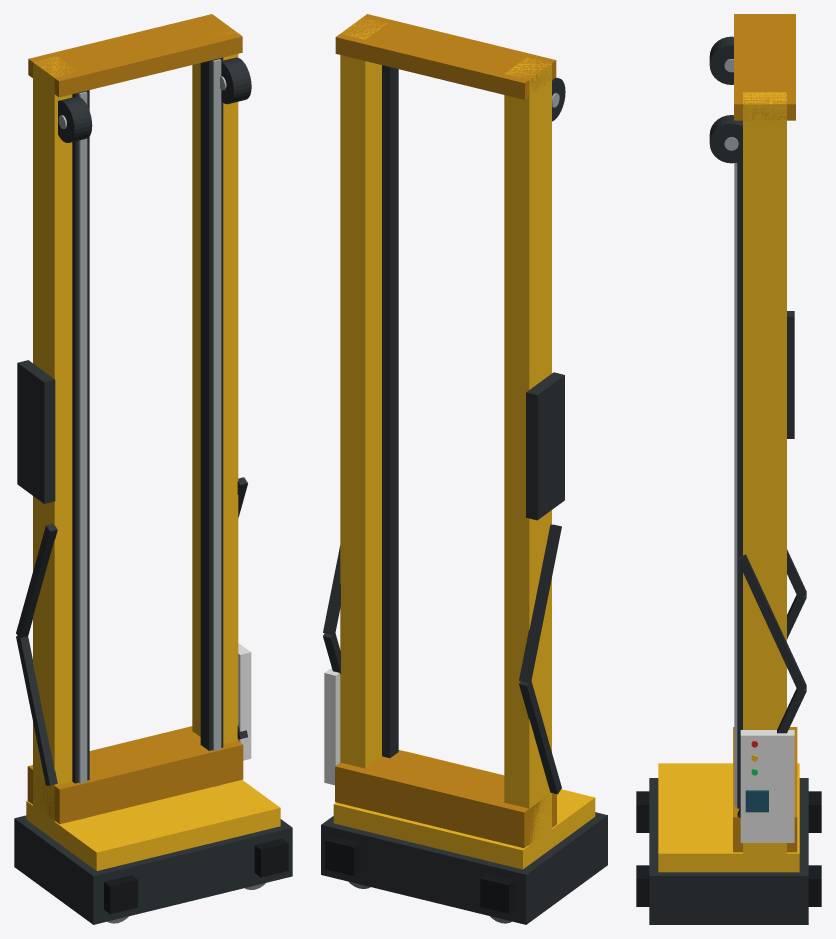
File: asrs_stacker_crane_body.glb
3 renders of one model, left to right at view 1: azimuth 30°, elevation 25°; view 2: azimuth 150°, elevation 25°; view 3: azimuth 270°, elevation 25°, orthographic. The views are drawn at different scales.
Parts seen in each view (by area): view 1: MastColumn_L, MastColumn_R, CraneBase, CraneBaseYellow, GuideBacking_R, MastLowerCrossbeam, MastTopCrossbeam, LiftGuide_R, LiftGuide_L, GuideBacking_L, Counterweight, SideBrace_A_L (+6 smaller); view 2: MastColumn_R, MastColumn_L, CraneBase, MastLowerCrossbeam, GuideBacking_R, MastTopCrossbeam, CraneBaseYellow, Counterweight, SideBrace_B_L, ControlCabinet, SideBrace_A_L, EmergencyBuffer_B_0.68 (+2 smaller); view 3: MastColumn_R, CraneBase, CraneBaseYellow, MastTopCrossbeam, ControlCabinet, GuideBacking_R, LiftGuide_R, SideBrace_B_R, LiftTopSheave_R, MastLowerCrossbeam, Counterweight, LiftTopSheave_L (+7 smaller).
Boxes of the visible parts, x1,y1,x2,y2 form: MastColumn_L: (33, 56, 73, 830); MastColumn_R: (192, 32, 238, 744); CraneBase: (14, 815, 292, 924); CraneBaseYellow: (26, 780, 280, 870); GuideBacking_R: (200, 57, 223, 750); MastLowerCrossbeam: (27, 726, 243, 824); MastTopCrossbeam: (28, 14, 242, 97); LiftGuide_R: (212, 59, 221, 786); LiftGuide_L: (78, 91, 87, 819); GuideBacking_L: (72, 90, 89, 783); Counterweight: (17, 360, 55, 503); SideBrace_A_L: (16, 636, 57, 785); MastColumn_R: (340, 17, 387, 768); MastColumn_L: (504, 57, 551, 863); CraneBase: (321, 812, 607, 924); MastLowerCrossbeam: (335, 750, 556, 848); GuideBacking_R: (382, 65, 398, 758); MastTopCrossbeam: (335, 14, 556, 99); CraneBaseYellow: (333, 751, 595, 869); Counterweight: (526, 372, 564, 520); SideBrace_B_L: (519, 524, 561, 682); ControlCabinet: (324, 668, 340, 785); SideBrace_A_L: (519, 680, 561, 794); EmergencyBuffer_B_0.68: (325, 836, 360, 875); MastColumn_R: (743, 92, 786, 872); CraneBase: (649, 778, 808, 924); CraneBaseYellow: (658, 763, 799, 872); MastTopCrossbeam: (734, 14, 795, 120); ControlCabinet: (740, 730, 794, 842); GuideBacking_R: (737, 160, 742, 808); LiftGuide_R: (734, 163, 737, 806); SideBrace_B_R: (737, 554, 806, 691); LiftTopSheave_R: (709, 115, 742, 163); MastLowerCrossbeam: (733, 727, 797, 852); Counterweight: (787, 311, 794, 438); LiftTopSheave_L: (709, 36, 733, 84).
Size of the model in its own units: 1.89 by 7.09 by 1.44.
